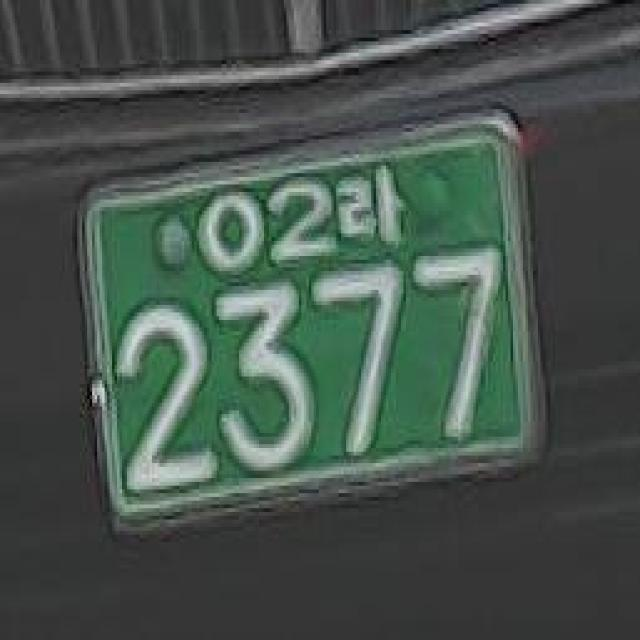illegal_plate: (71, 106, 556, 549)
